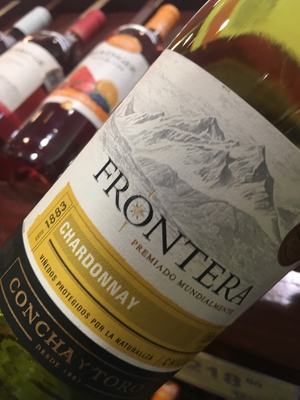frontera chardonnay: (27, 44, 295, 400)
